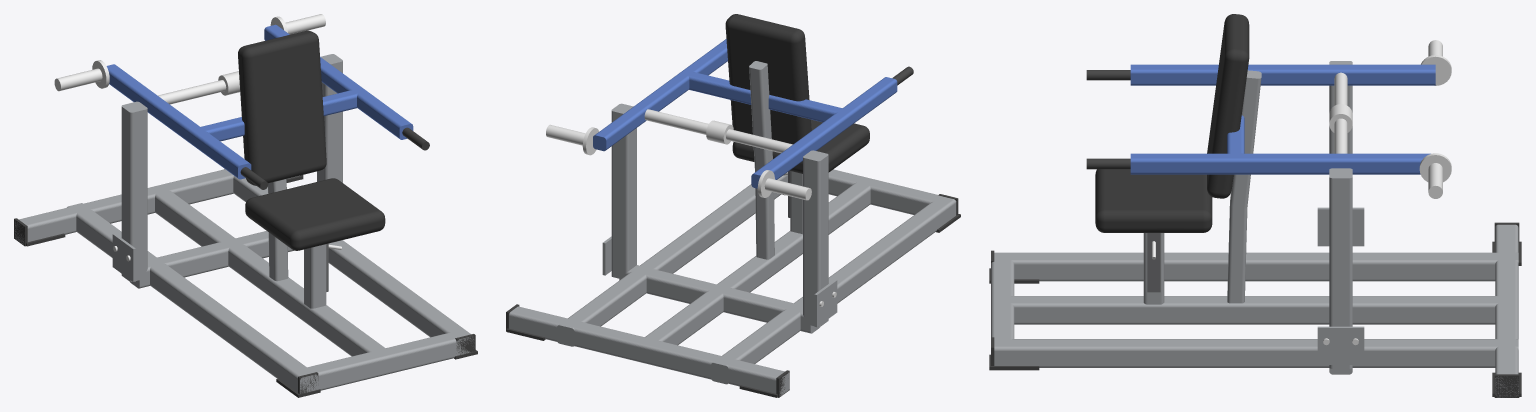
The picture shows the model from 3 angles, left to right: view 1: azimuth 30°, elevation 25°; view 2: azimuth 150°, elevation 25°; view 3: azimuth 270°, elevation 25°; orthographic projection. The views are drawn at different scales.
Parts seen in each view (by area): view 1: base, backrest_pad, lever_support, seat_pad, lever_bar (×2), lever_horn (×2), lever, seat_post, backrest_support_tube, lever_tail, gusset, lever_axle; view 2: base, lever_support, backrest_pad, lever_bar (×2), backrest_support_tube, lever, lever_tail (×2), seat_pad, lever_horn (×2), lever_axle, gusset, seat_post (+1 smaller); view 3: base, lever_bar (×2), seat_pad, lever_support, backrest_pad, lever_tail (×2), backrest_support_tube, gusset (×2), lever_horn (×2), lever_grip (×2), lever_axle, seat_post (+4 smaller).
Boxes of the visible parts, bbox=[...] form: base: bbox=[14, 169, 473, 393]; backrest_pad: bbox=[238, 30, 326, 185]; lever_support: bbox=[121, 54, 342, 288]; seat_pad: bbox=[245, 178, 385, 250]; lever_bar (×2): bbox=[144, 57, 413, 179]; lever_horn (×2): bbox=[54, 14, 325, 91]; lever: bbox=[198, 89, 361, 141]; seat_post: bbox=[304, 244, 326, 308]; backrest_support_tube: bbox=[268, 179, 288, 281]; lever_tail: bbox=[106, 64, 156, 105]; gusset: bbox=[112, 233, 135, 281]; lever_axle: bbox=[158, 80, 226, 104]; base: bbox=[509, 169, 956, 396]; lever_support: bbox=[611, 103, 828, 333]; backrest_pad: bbox=[725, 14, 811, 144]; lever_bar (×2): bbox=[636, 39, 897, 153]; backrest_support_tube: bbox=[749, 61, 774, 259]; lever: bbox=[684, 71, 845, 122]; lever_tail (×2): bbox=[593, 105, 805, 188]; seat_pad: bbox=[732, 119, 869, 173]; lever_horn (×2): bbox=[546, 124, 811, 200]; lever_axle: bbox=[644, 109, 792, 152]; gusset: bbox=[814, 279, 837, 327]; seat_post: bbox=[790, 171, 802, 234]; base: bbox=[991, 224, 1518, 397]; lever_bar (×2): bbox=[1130, 64, 1340, 174]; seat_pad: bbox=[1095, 169, 1212, 232]; lever_support: bbox=[1329, 61, 1352, 374]; backrest_pad: bbox=[1207, 14, 1249, 198]; lever_tail (×2): bbox=[1341, 64, 1435, 174]; backrest_support_tube: bbox=[1227, 70, 1261, 303]; gusset (×2): bbox=[1317, 207, 1364, 364]; lever_horn (×2): bbox=[1419, 40, 1451, 198]; lever_grip (×2): bbox=[1086, 70, 1130, 169]; lever_axle: bbox=[1334, 72, 1347, 153]; seat_post: bbox=[1143, 233, 1164, 304].
Bounding box in the file's own units: 1.24 × 1.09 × 1.82.
